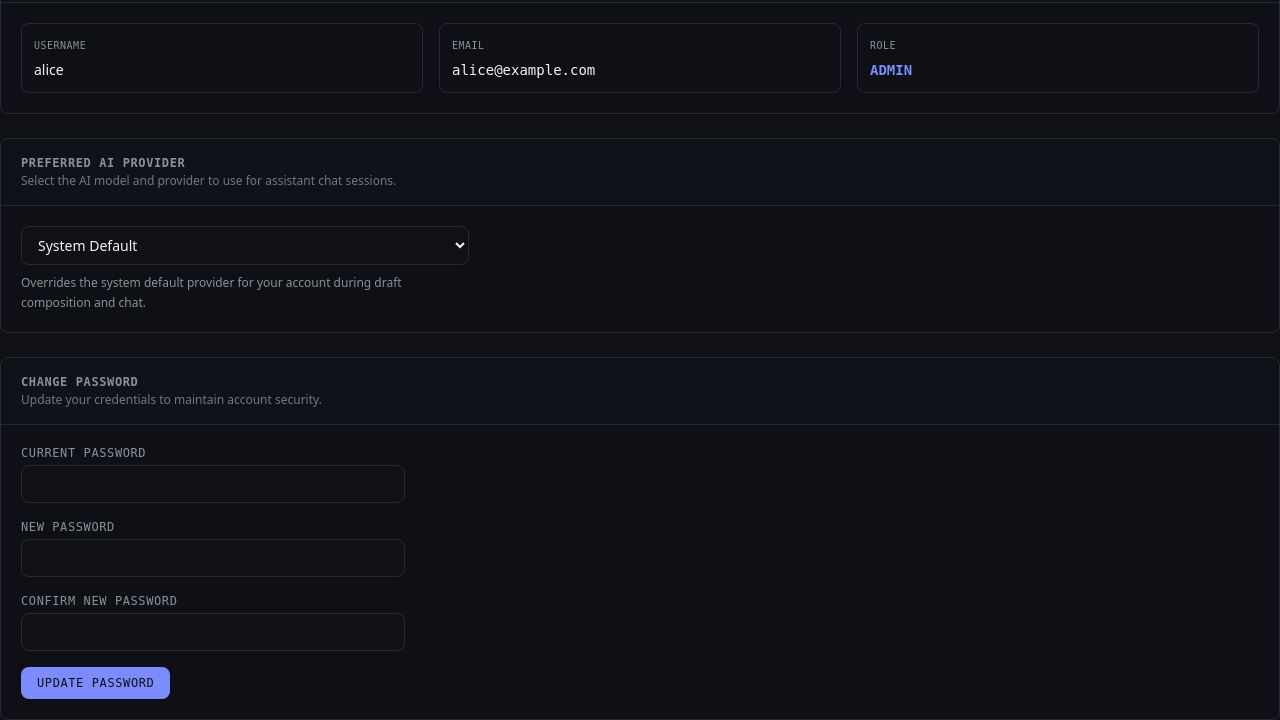
Scenario: AccountTab › shows error when new passwords do not match
(page scrolled)
Type "old" into the password field below "Current Password" at (213,484), box [21,465,405,503]
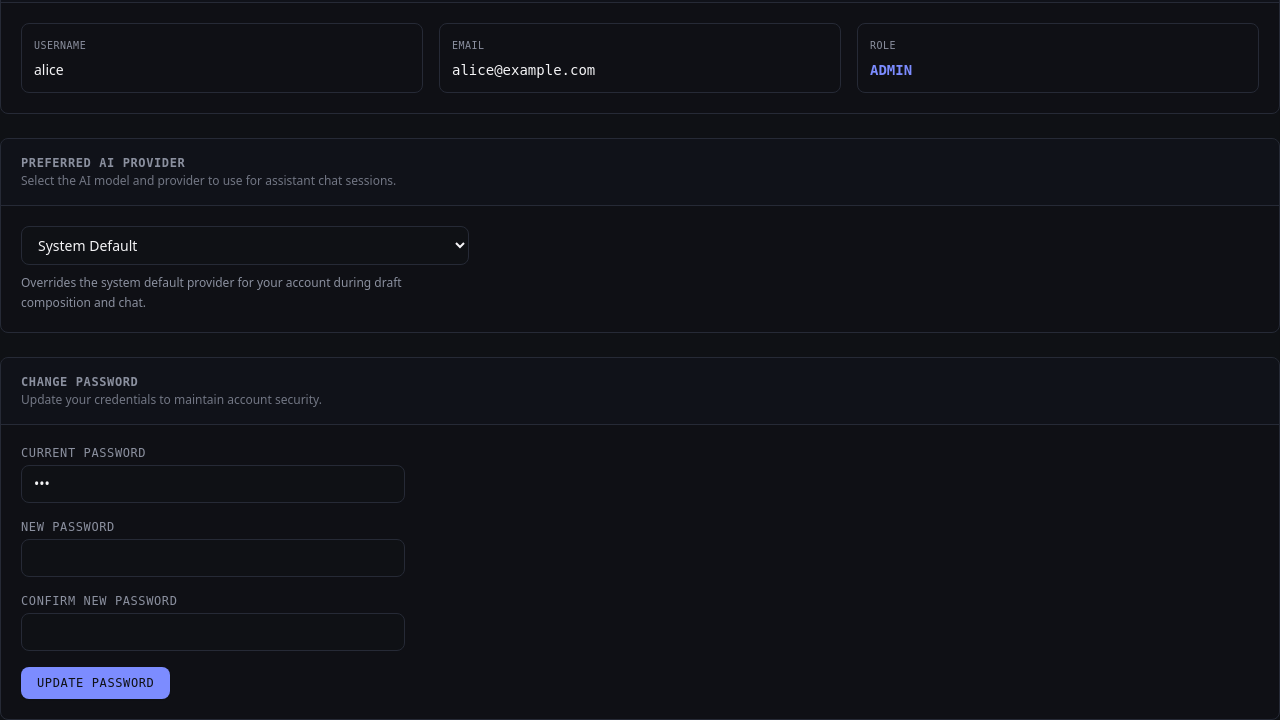
Type "new1" into the 2nd password field at (213,558), box [21,539,405,577]
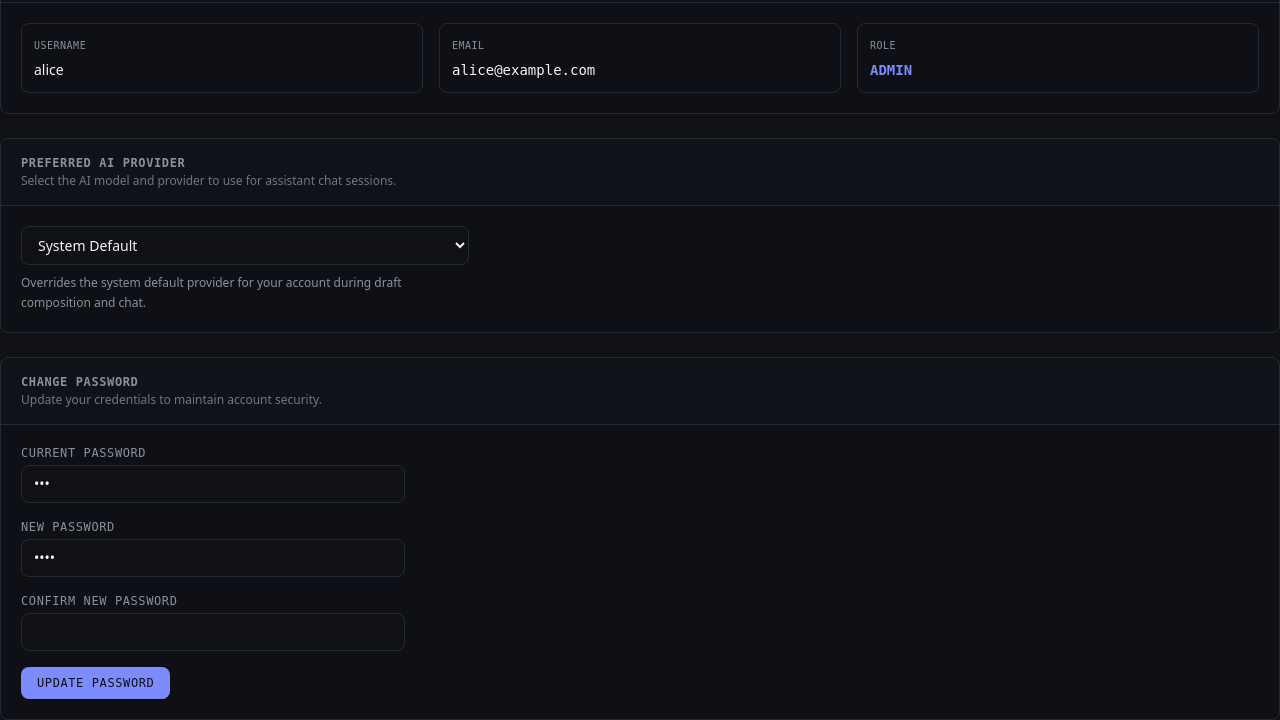
Type "new2" into the password field below "Confirm New Password" at (213,632), box [21,613,405,651]
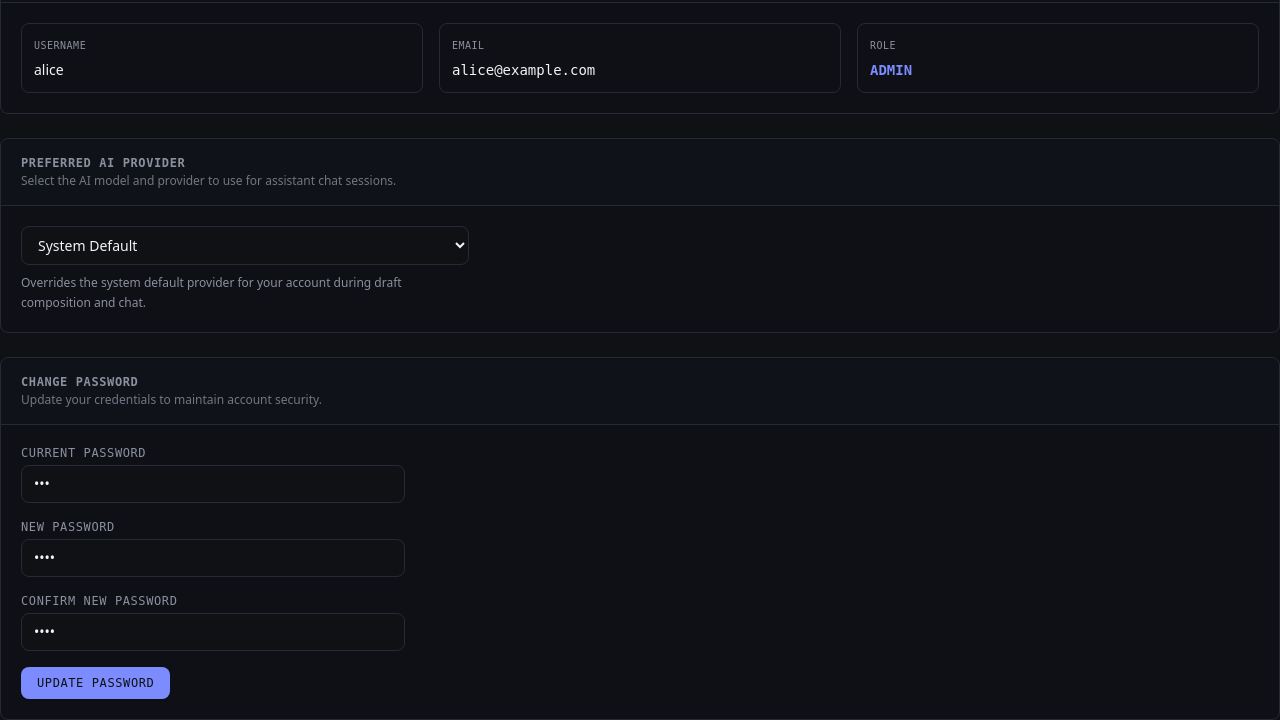
Click the button "update password" at (96,683), box [21,667,170,699]
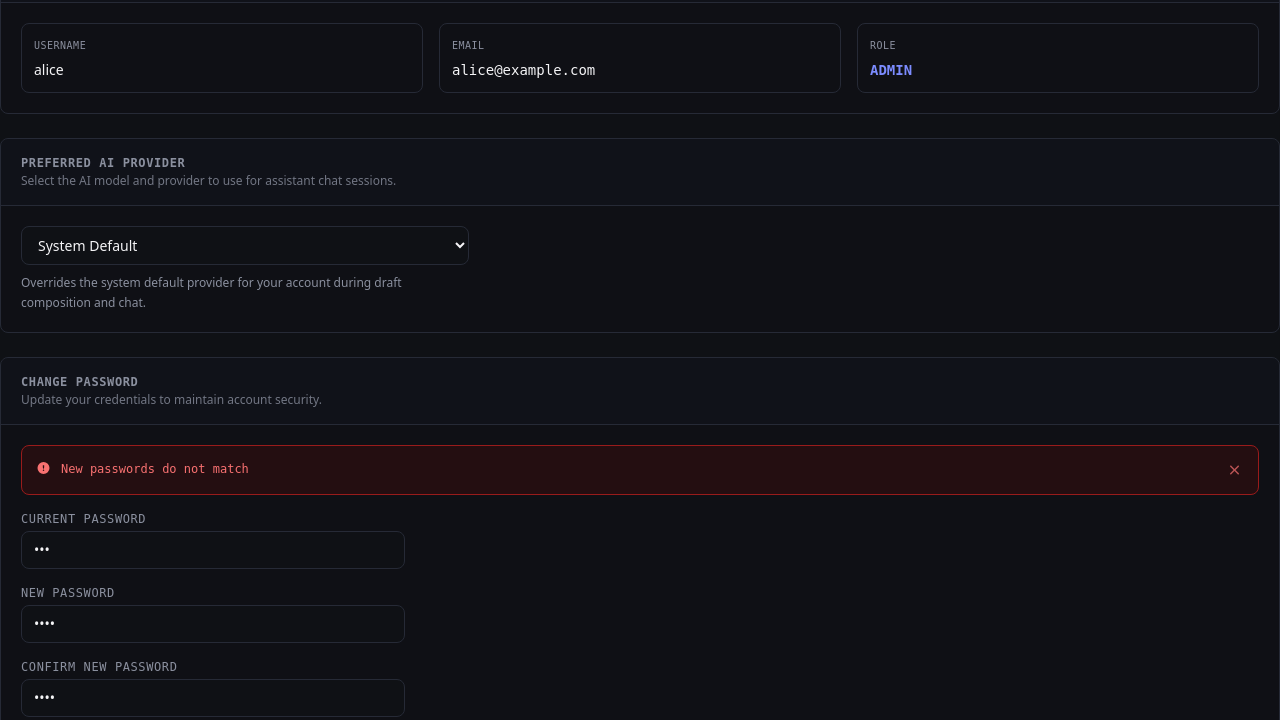
expect the text "New passwords do not match" is shown: met, box [61,460,249,480]
